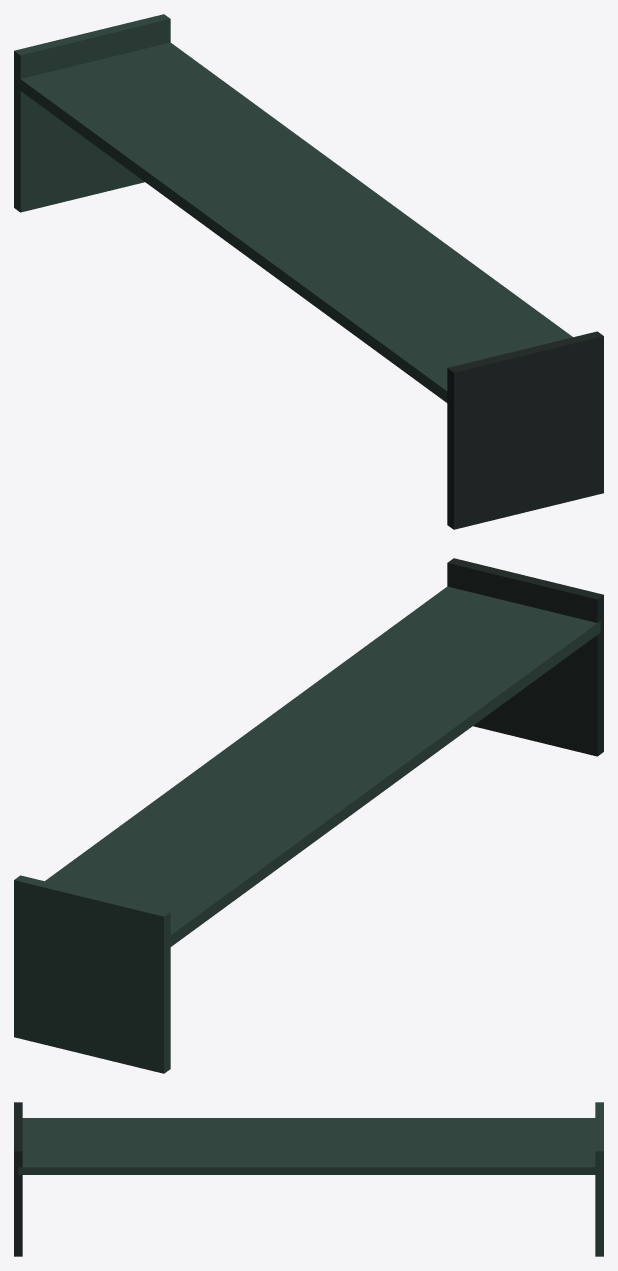
File: MinimalBench.fbx
3 views of the same model, one above another, from view 1: azimuth 30°, elevation 25°; view 2: azimuth 150°, elevation 25°; view 3: azimuth 270°, elevation 25° (orthographic). The views are drawn at different scales.
Parts seen in each view (by area): view 1: Cube.001; view 2: Cube.001; view 3: Cube.001.
Part boxes in pixels (bbox=[...]): Cube.001: bbox=[14, 14, 603, 529]; Cube.001: bbox=[14, 558, 603, 1073]; Cube.001: bbox=[14, 1102, 603, 1256].
Bounding box in the file's own units: 400 × 400 × 2030.
